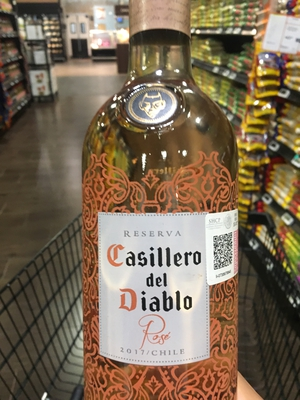casillero del diablo rose: (73, 2, 267, 390)
